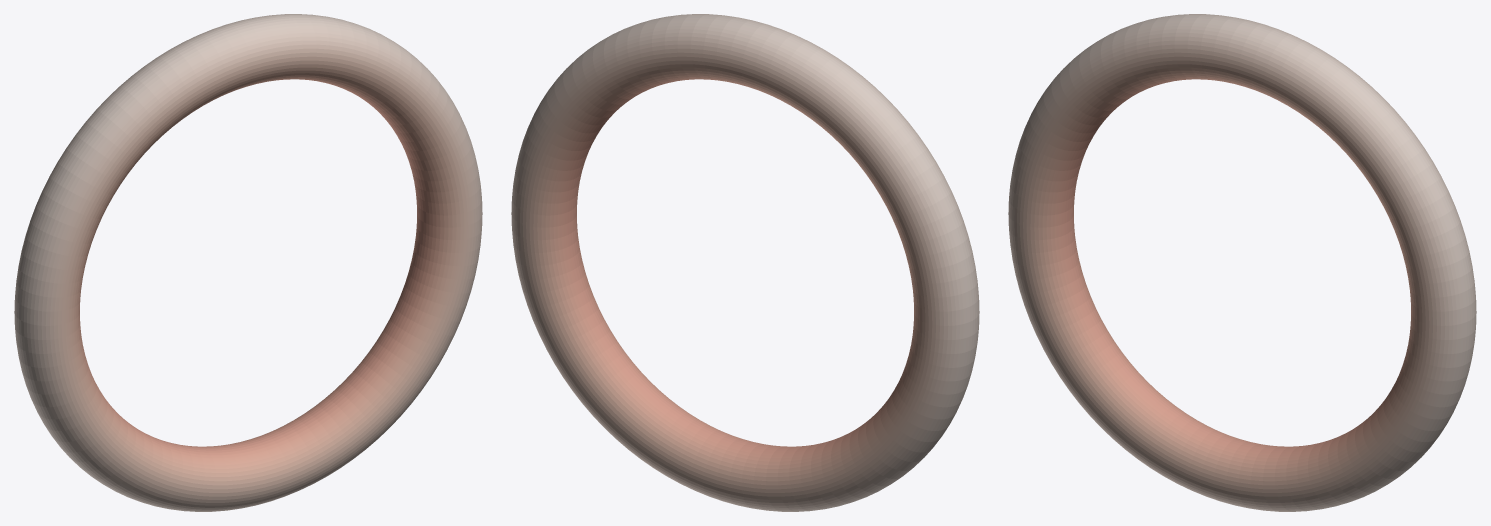
3 views of the same model, side by side, from view 1: azimuth 30°, elevation 25°; view 2: azimuth 150°, elevation 25°; view 3: azimuth 330°, elevation 25° (orthographic).
Visible parts, largest first — view 1: world; view 2: world; view 3: world.
Part boxes in pixels (x1,y1,x2,y2): world: (14, 14, 482, 511); world: (511, 14, 979, 511); world: (1008, 14, 1476, 511).
Size of the model in its own units: 20.53 by 20.53 by 2.53.
